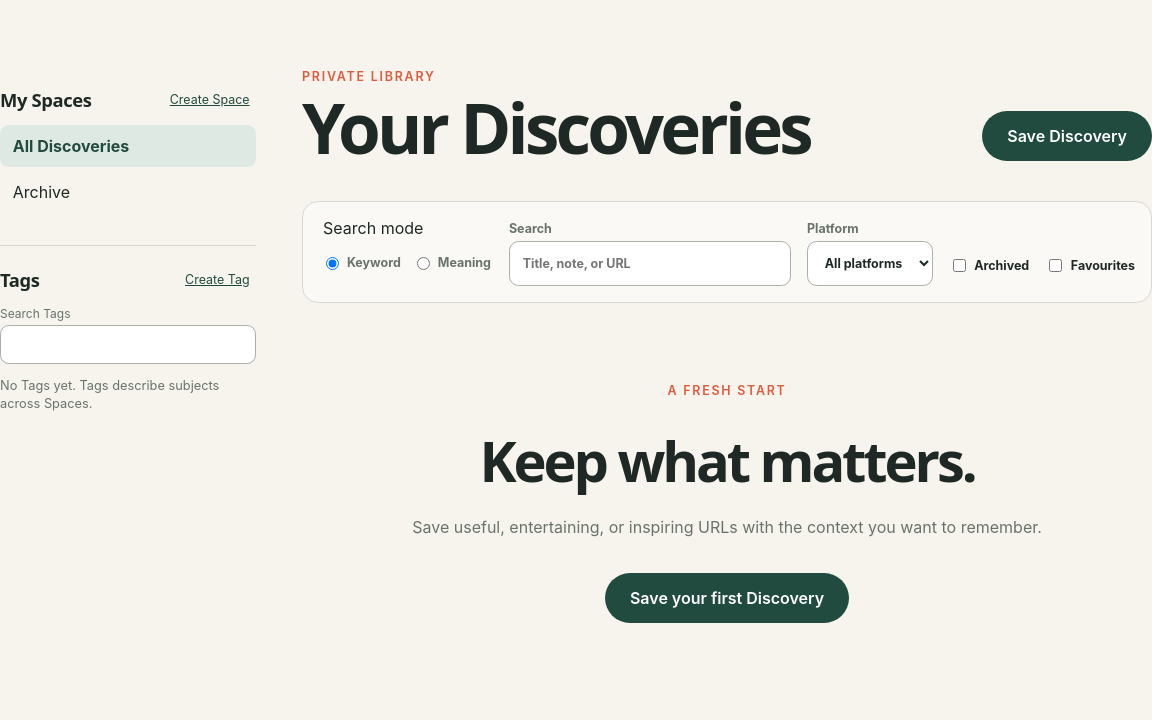
Discovery library › shows a genuine empty state and the accessible save form
Check: the heading "Keep what matters." is shown, box [480,422,975,498]
Click the button "Save your first Discovery".
click(727, 598)  # box [605,573,849,623]
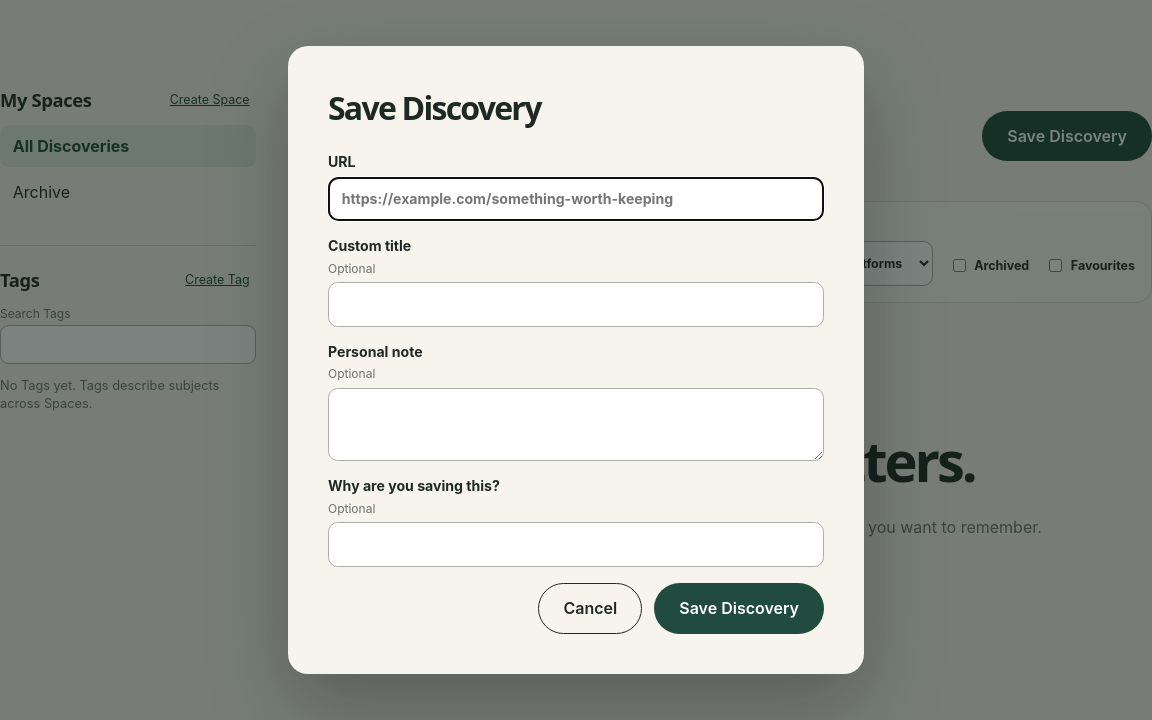
Check: the dialog is shown, box [288,46,864,674]
Check: the field labelled "URL" is shown, box [328,176,824,221]
Check: the field labelled "Custom title Optional" is shown, box [328,282,824,327]
